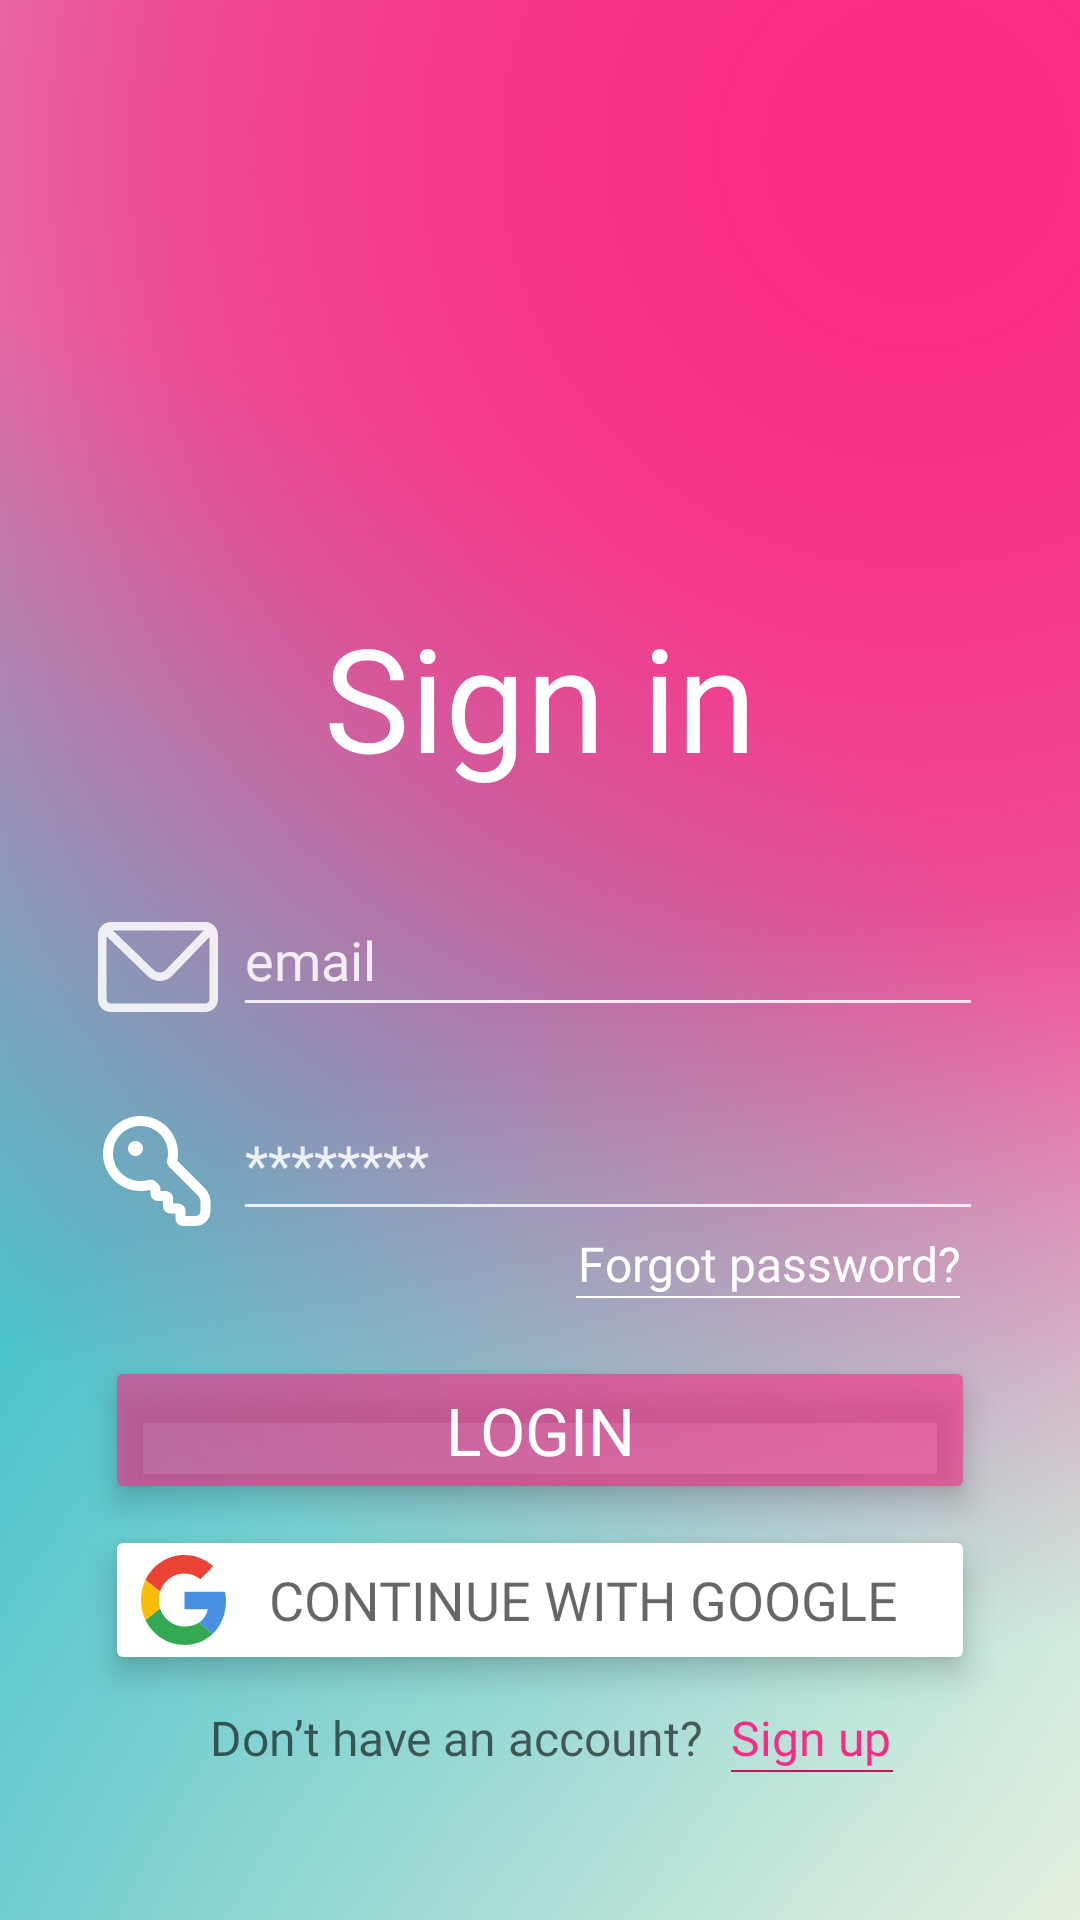

Screen size 1080px x 1920px. Icon name, then its box in pixels as (x1, y1, x2, y2):
message: (98, 907, 218, 1027)
